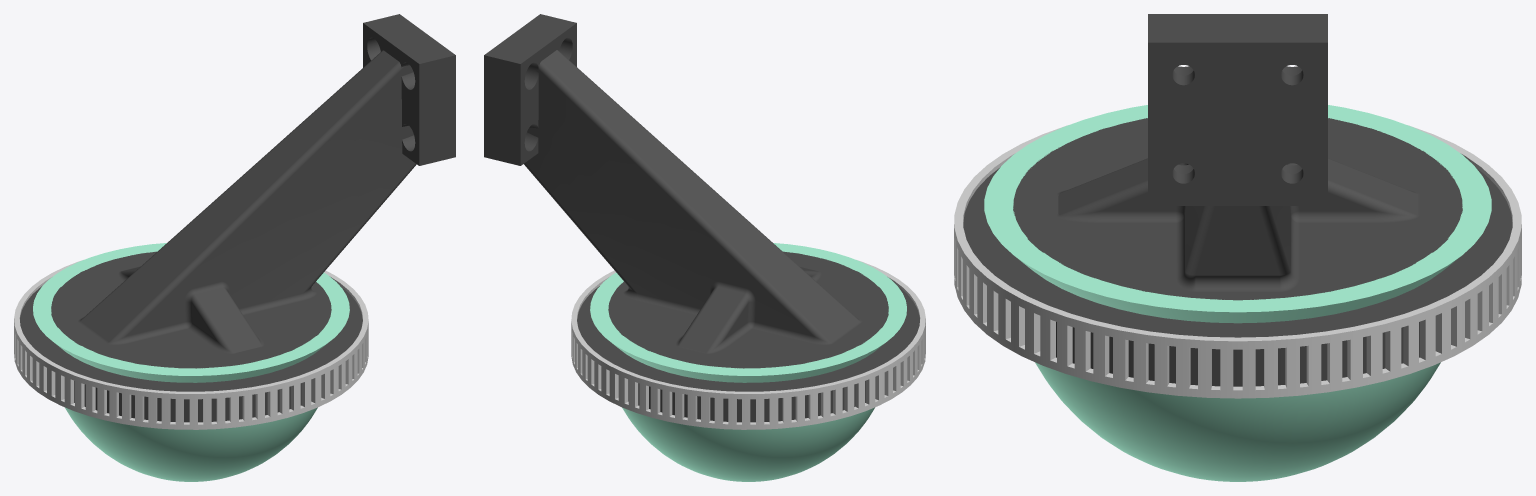
The model's file is membrane.gltf.
3 renders of one model, left to right at view 1: azimuth 30°, elevation 25°; view 2: azimuth 150°, elevation 25°; view 3: azimuth 270°, elevation 25°, orthographic. The views are drawn at different scales.
Parts seen in each view (by area): view 1: Part 1 (×3), Part 2 (×2); view 2: Part 1 (×3), Part 2 (×2); view 3: Part 1 (×3), Part 2 (×2).
Boxes of the visible parts, bbox=[...] form: Part 1 (×3): bbox=[33, 14, 455, 481]; Part 2 (×2): bbox=[14, 260, 368, 429]; Part 1 (×3): bbox=[484, 14, 906, 481]; Part 2 (×2): bbox=[571, 260, 925, 429]; Part 1 (×3): bbox=[963, 14, 1512, 481]; Part 2 (×2): bbox=[954, 125, 1521, 398].
Bounding box in the file's own units: 0.16 × 0.1475 × 0.126.
